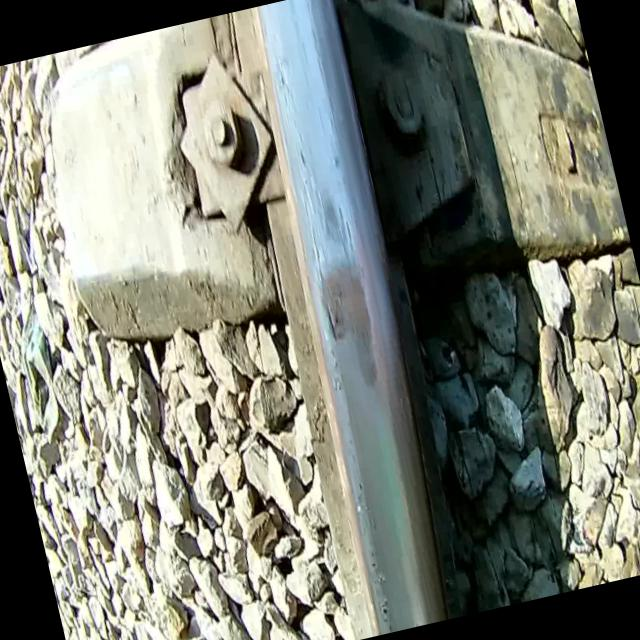Squats: (295, 188, 396, 402)
